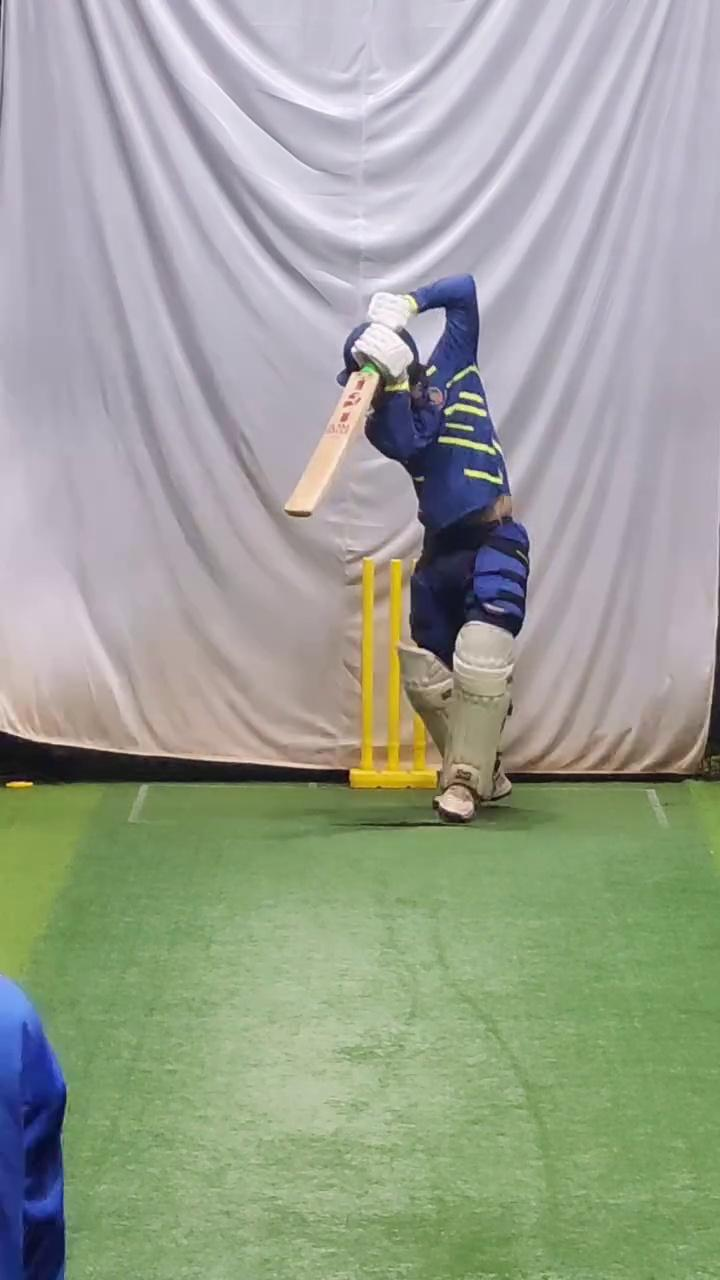bat: (280, 360, 381, 528)
